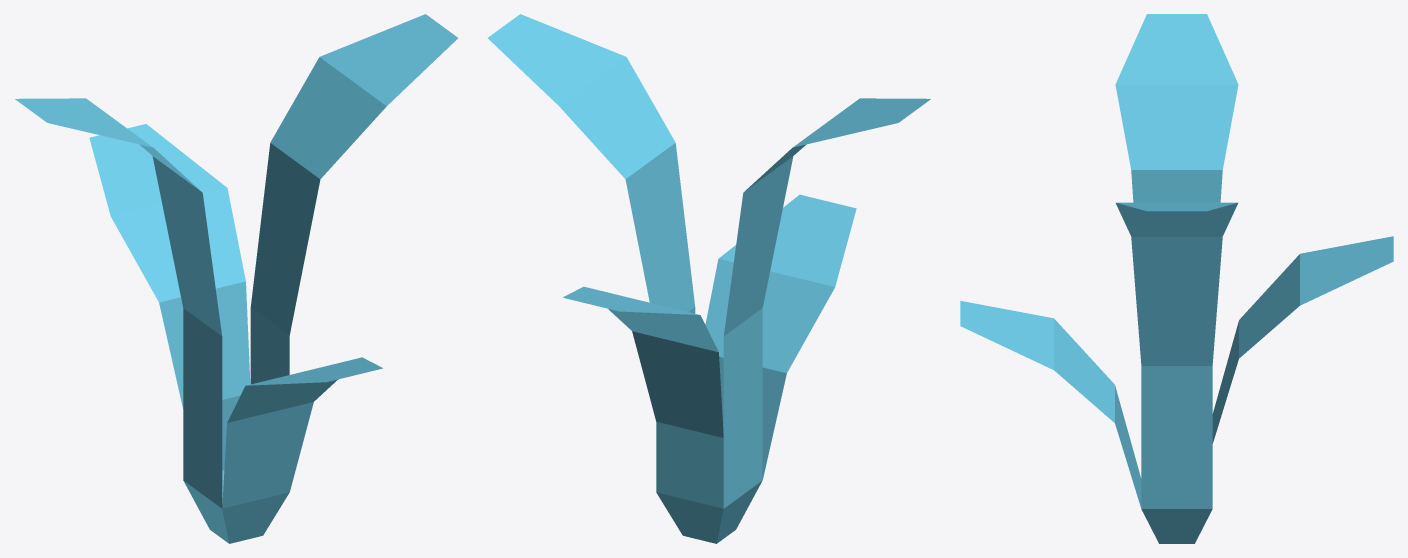
File: GrassBlue.glb
3 renders of one model, left to right at view 1: azimuth 30°, elevation 25°; view 2: azimuth 150°, elevation 25°; view 3: azimuth 270°, elevation 25°, orthographic. The views are drawn at different scales.
Visible parts, largest first — view 1: crops_leafsStageA; view 2: crops_leafsStageA; view 3: crops_leafsStageA.
Part boxes in pixels (x1,y1,x2,y2): crops_leafsStageA: (15, 14, 457, 543); crops_leafsStageA: (488, 14, 930, 543); crops_leafsStageA: (960, 14, 1393, 543).
Size of the model in its own units: 0.3894 by 0.4271 by 0.3894.
